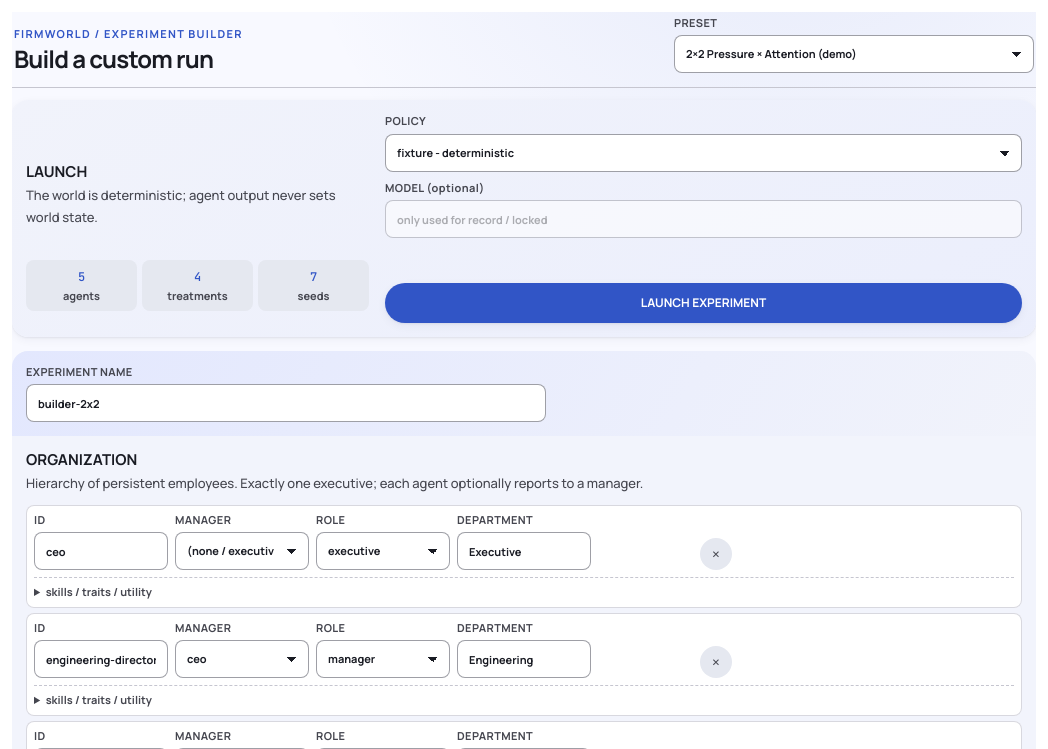
ExperimentBuilder › switching to the deep-hierarchy preset loads the deeper org
Select "Deep hierarchy" in the dropdown labelled "PRESET" at (854, 54), box [674, 35, 1034, 73]
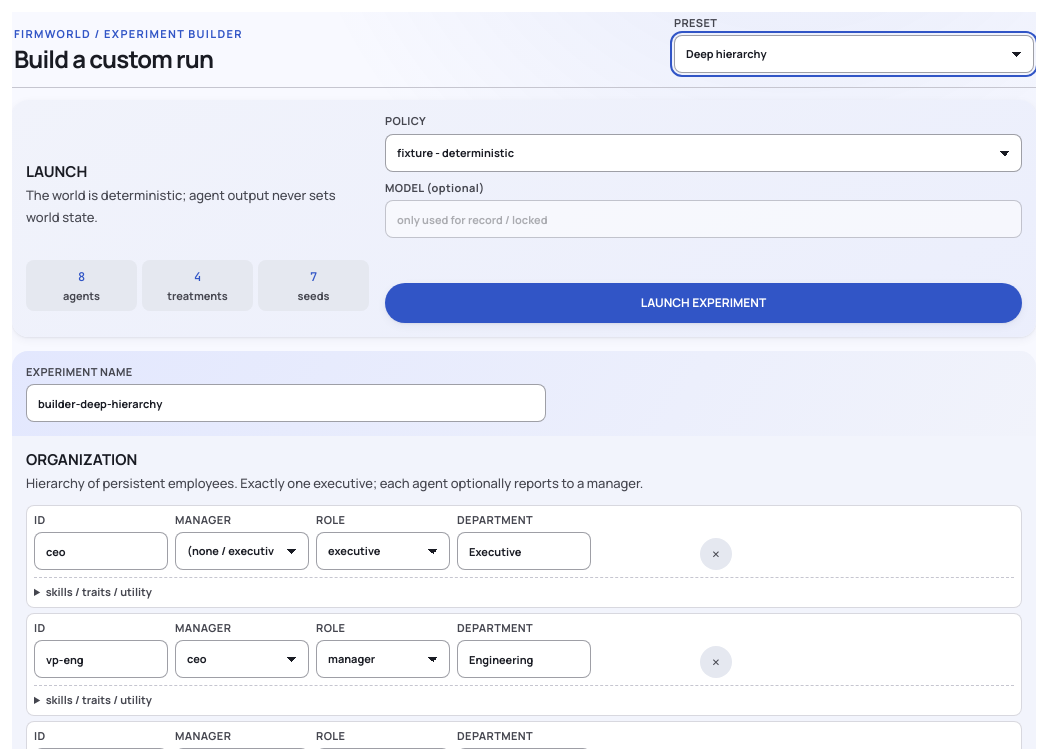
expect the field showing "builder-deep-hierarchy" is shown: met, box [26, 384, 546, 422]
expect the 2nd field showing "vp-eng" is shown: met, box [34, 640, 168, 678]
